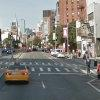Crosswalk: (26, 59, 82, 82)
